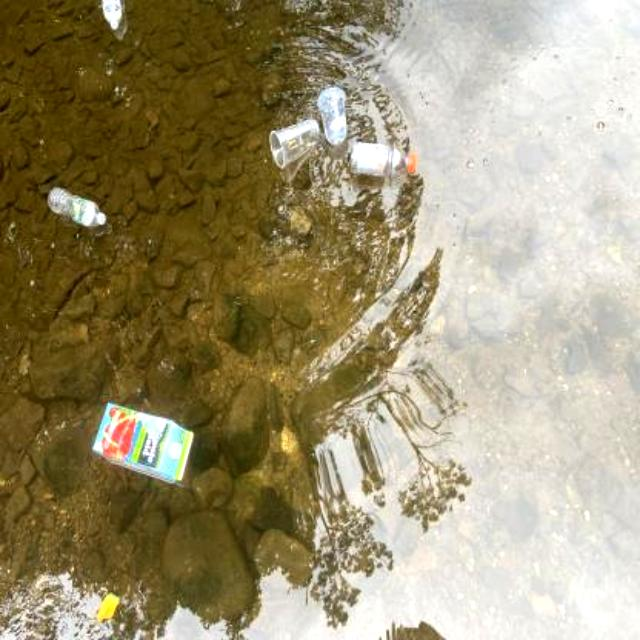Cardboard: (84, 398, 200, 487)
Plastic: (342, 132, 416, 182), (39, 181, 109, 233), (265, 114, 325, 174), (317, 74, 348, 152), (97, 0, 127, 34)
